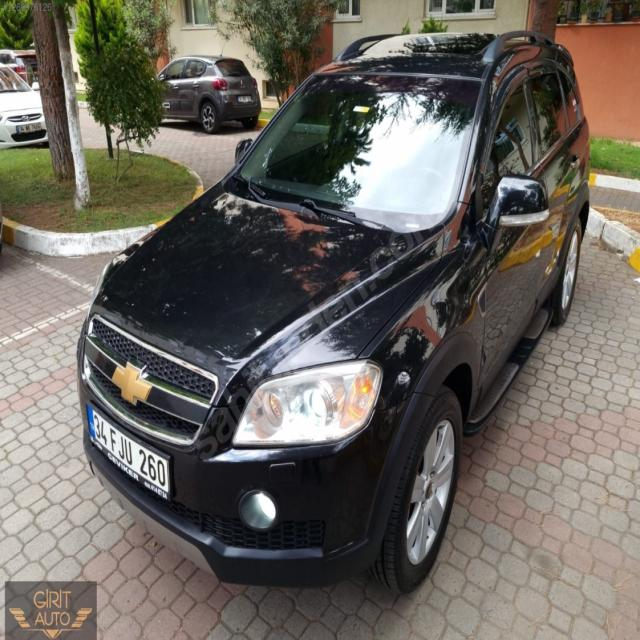chevrolet: (111, 358, 154, 409)
